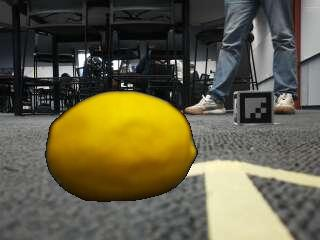lemon: (49, 92, 198, 201)
